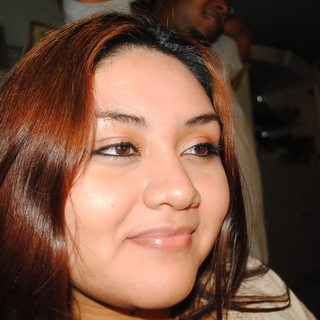eye: (91, 138, 142, 163), (181, 138, 224, 164)
